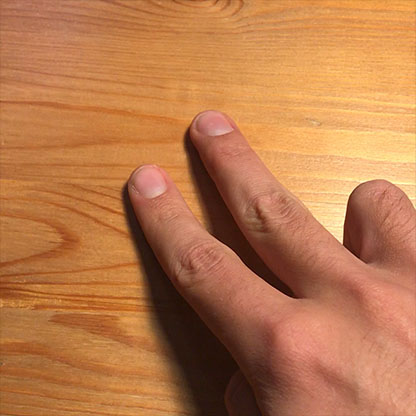fingertip: (119, 160, 172, 205), (188, 104, 237, 147)
